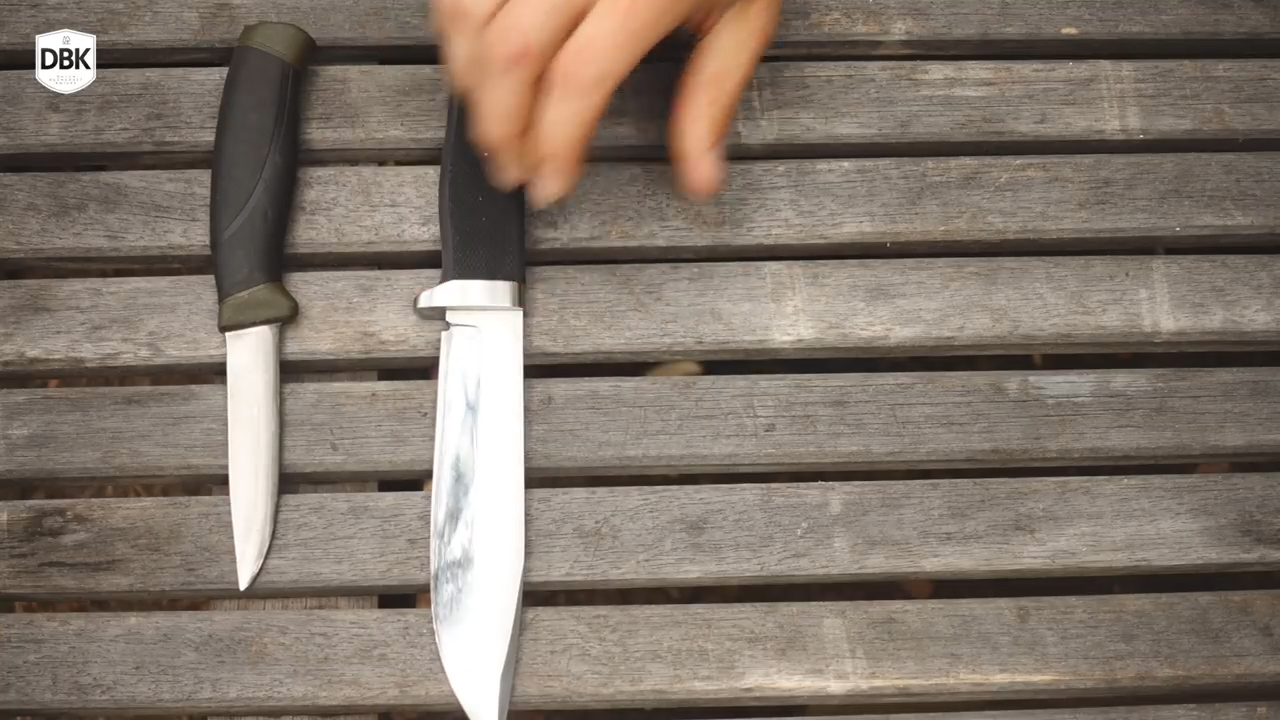knife: (388, 90, 612, 720), (192, 279, 311, 609)
